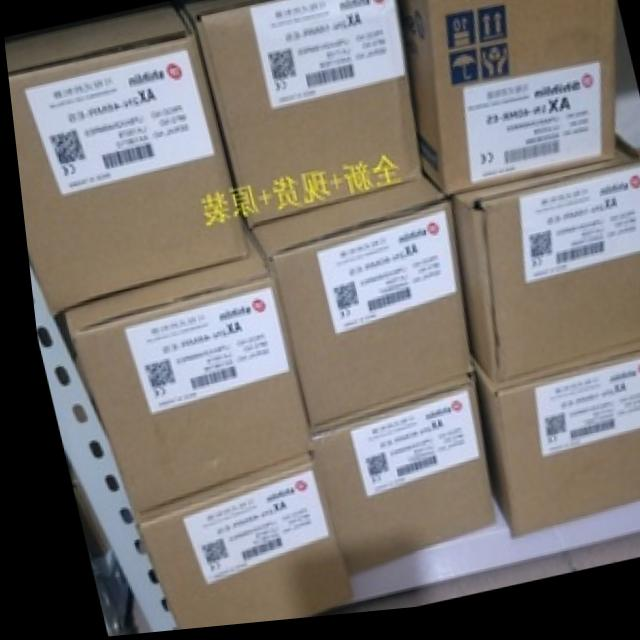box: (3, 5, 241, 317), (55, 235, 301, 515), (244, 164, 463, 435), (180, 0, 416, 235), (444, 136, 640, 394), (394, 0, 616, 200), (126, 459, 338, 632), (299, 390, 483, 583), (461, 353, 640, 543)
